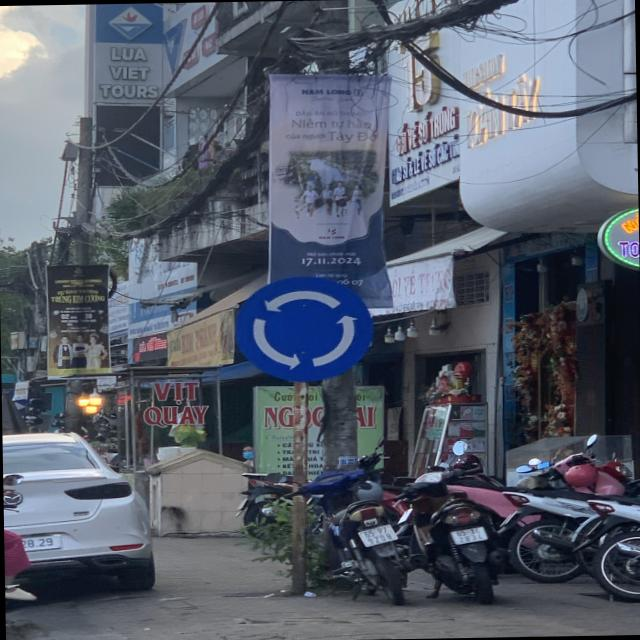Xe_Bus: (229, 274, 378, 384)
